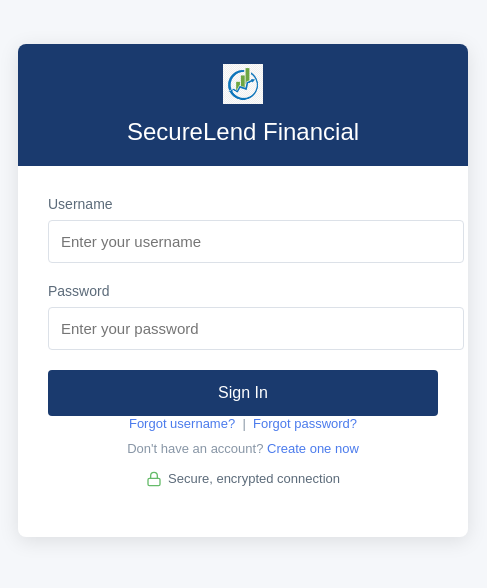
LoginPage.vue › shows rate limit error and disables form when too many attempts
This screenshot has width=487, height=588.
Set form values
Type "testuser" into the field labelled "Username".
click(256, 241); type("testuser")  # box [48,220,464,262]
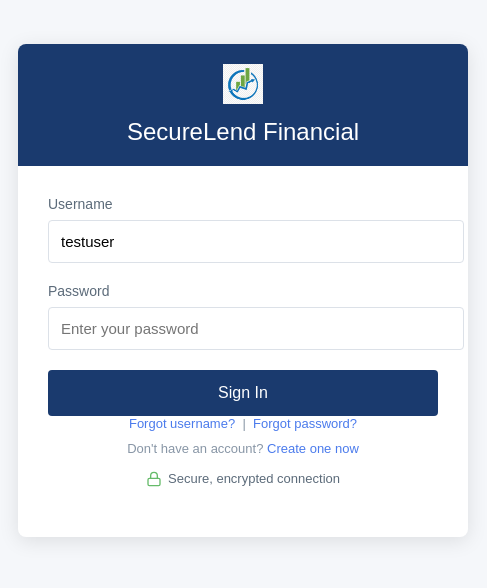
Type "wrongpassword" into the password field labelled "Password".
click(256, 328); type("wrongpassword")  # box [48,306,464,350]
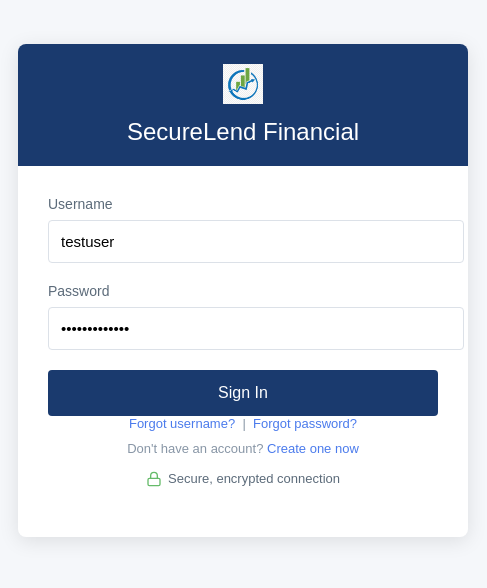
Submit the form
Submit the form, box [18,166,468,536]
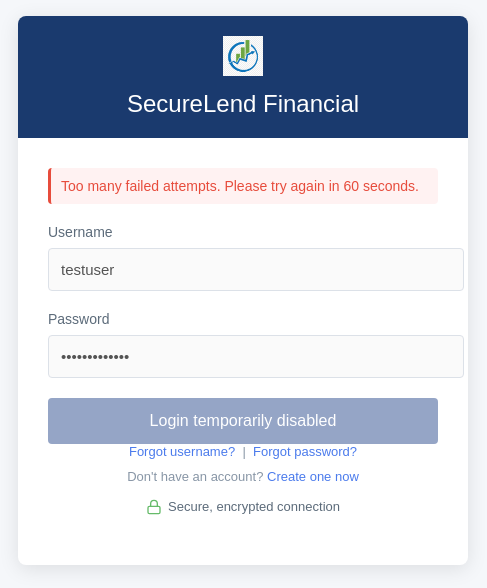
Now the field labelled "Username" is disabled, box [48,248,464,290]
Now the password field labelled "Password" is disabled, box [48,334,464,378]
Now the submit button is disabled, box [48,398,438,444]
